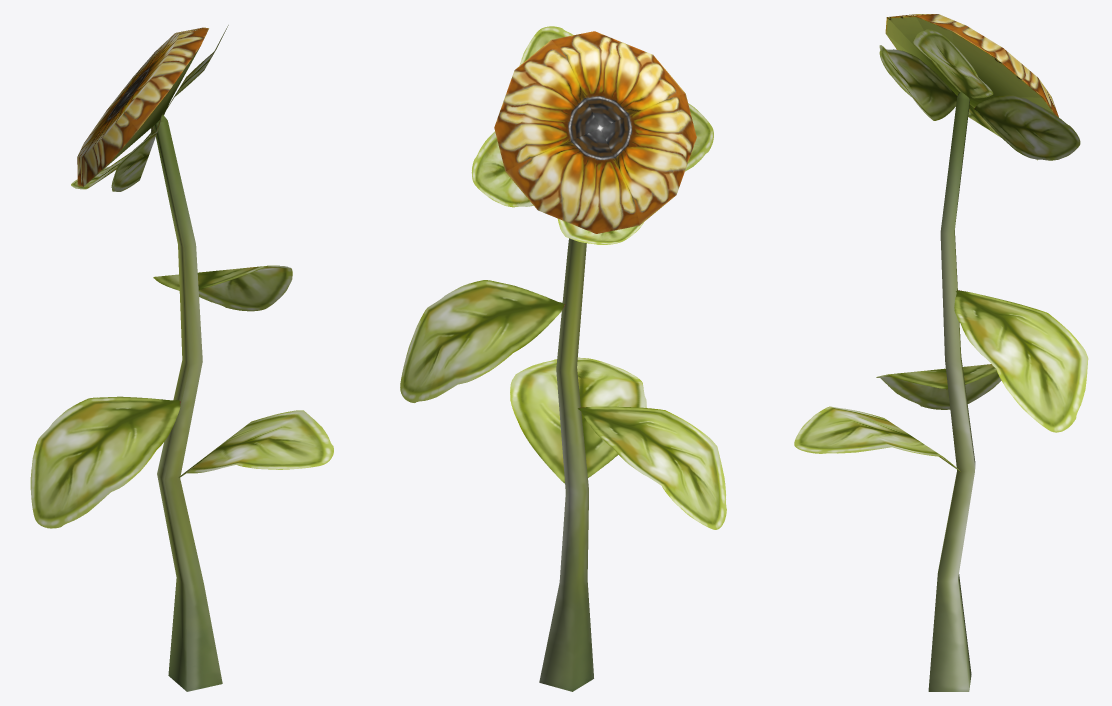
Rendered from SunFlower.FBX.
The picture shows the model from 3 angles, left to right: view 1: azimuth 30°, elevation 25°; view 2: azimuth 150°, elevation 25°; view 3: azimuth 270°, elevation 25°; orthographic projection. The views are drawn at different scales.
Visible parts, largest first — view 1: SunFlower; view 2: SunFlower; view 3: SunFlower.
Boxes of the visible parts, x1,y1,x2,y2 form: SunFlower: (30, 25, 333, 691); SunFlower: (400, 26, 726, 691); SunFlower: (794, 14, 1088, 691).
Size of the model in its own units: 157 by 328 by 144.
